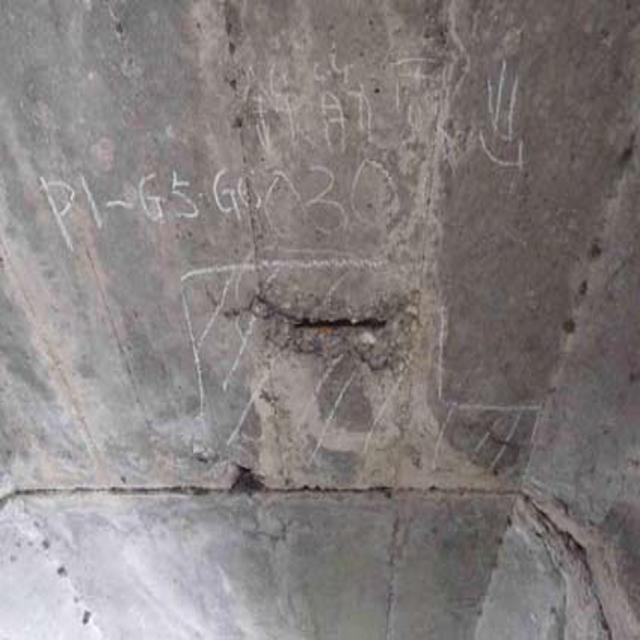spalling: (219, 257, 434, 376), (526, 487, 634, 640)
